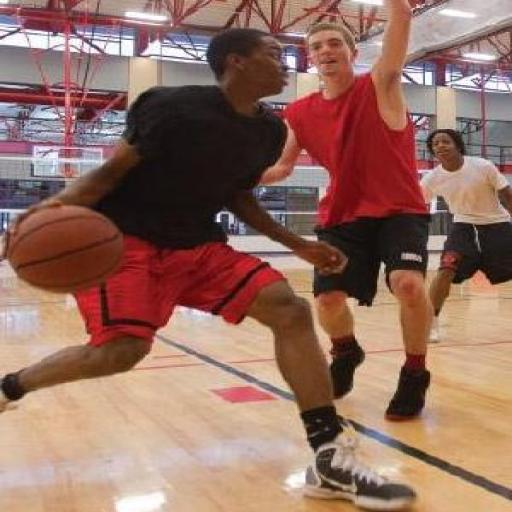person: (0, 30, 414, 509), (263, 0, 431, 420), (422, 129, 511, 341)
